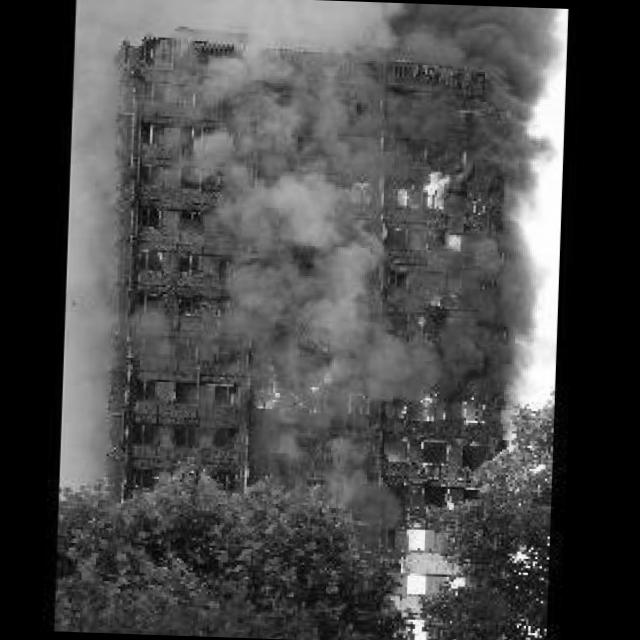fire: (390, 167, 498, 215), (410, 377, 492, 428), (268, 369, 292, 404)
smoke: (192, 66, 394, 373), (76, 0, 570, 76), (474, 76, 561, 382)
